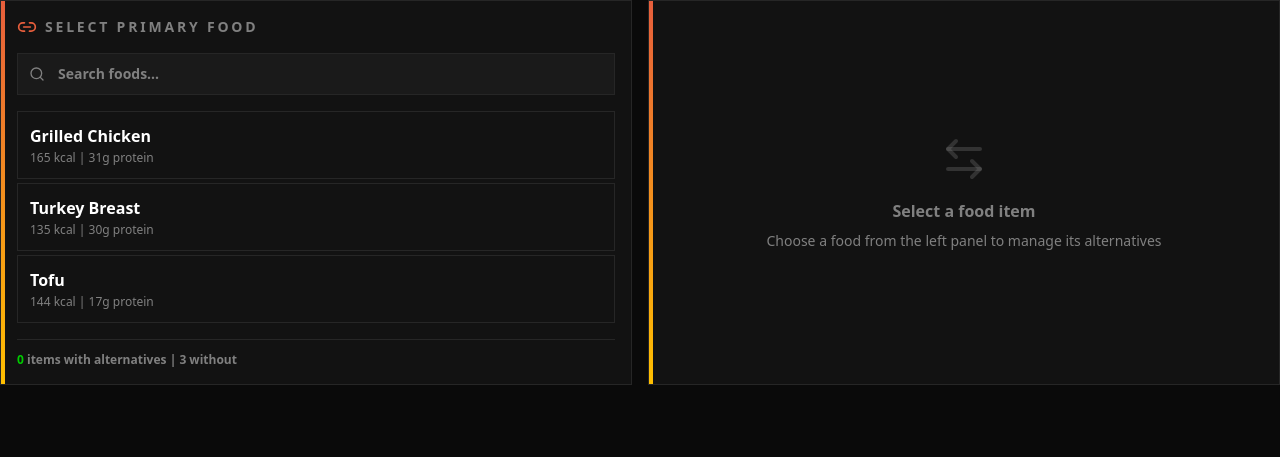
AlternativesLinker › shows empty message when alternative search has no results
Select chicken
Click the button "Grilled Chicken 165 kcal | 31g protein". click: (90, 136)
box: left=17, top=111, right=615, bottom=179
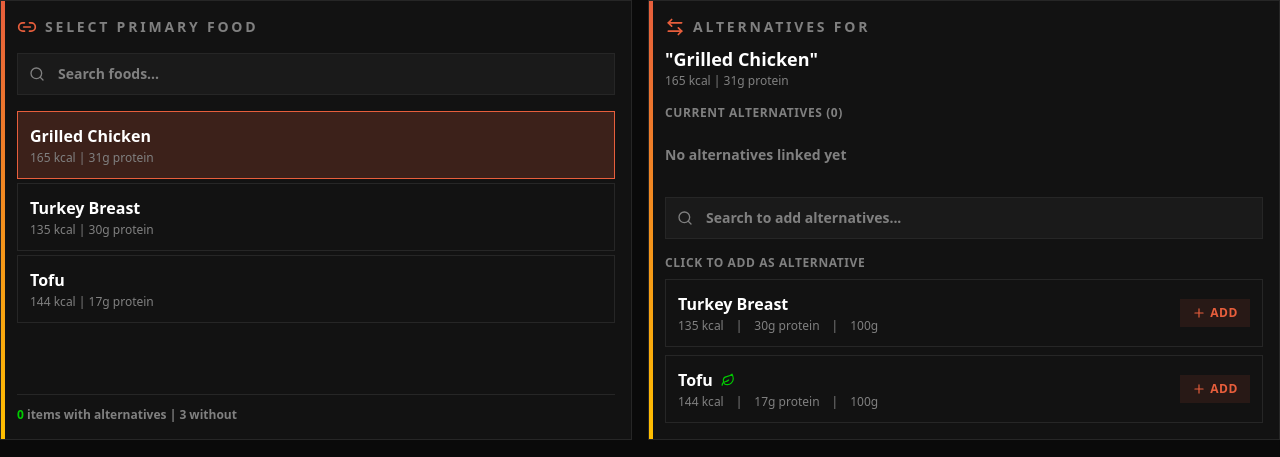
Search for something that doesn't exist
Type "nonexistentfood" into the field with placeholder "Search to add alternatives...". click: (964, 218)
box: left=665, top=197, right=1263, bottom=239
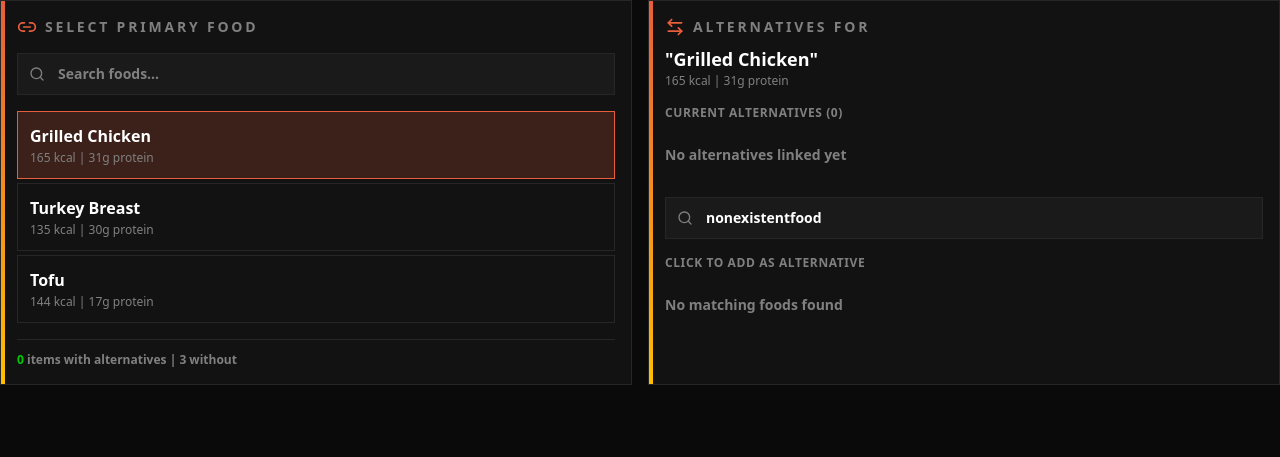
expect the text "No matching foods found" is shown: met, box left=665, top=295, right=843, bottom=314
